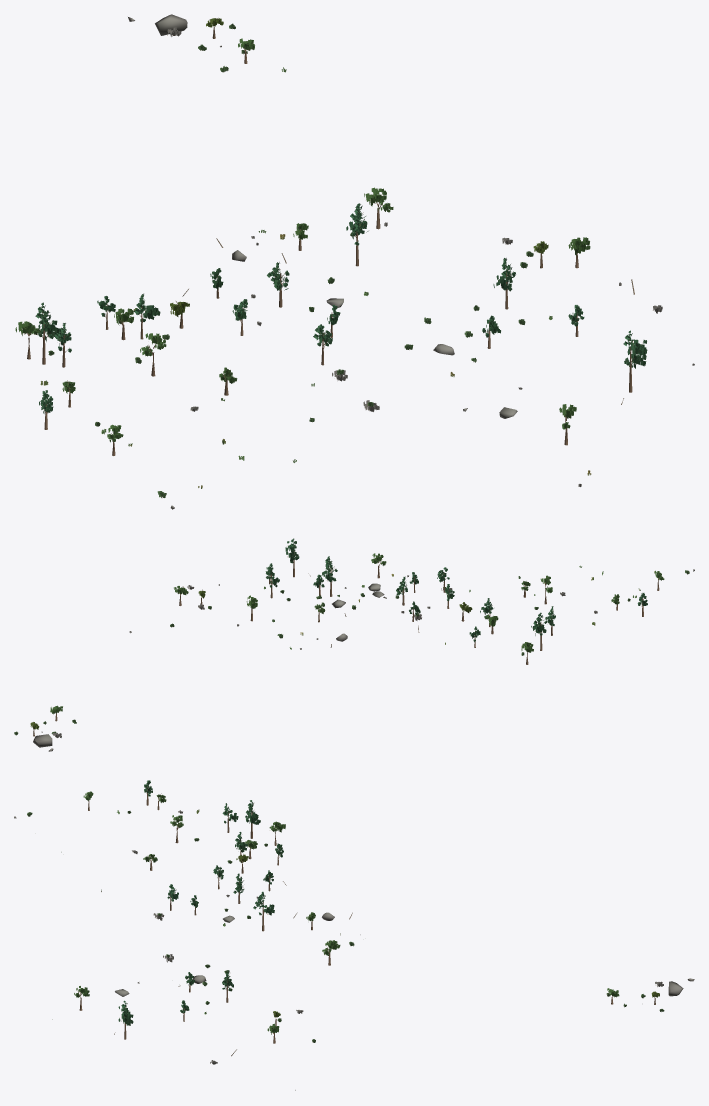
The model's file is arch_land_scatter_c23_18.glb.
3 views of the same model, one above another, from view 1: azimuth 30°, elevation 25°; view 2: azimuth 150°, elevation 25°; view 3: azimuth 270°, elevation 25° (orthographic). The views are drawn at different scales.
Parts seen in each view (by area): view 1: arch_land_scatter_c23_18; view 2: arch_land_scatter_c23_18; view 3: arch_land_scatter_c23_18.
Boxes of the visible parts, box(x1,y1,x2,y2) form: arch_land_scatter_c23_18: box(15, 14, 694, 509); arch_land_scatter_c23_18: box(14, 538, 694, 751); arch_land_scatter_c23_18: box(14, 780, 694, 1090).
Size of the model in its own units: 163 by 38.3 by 215.
